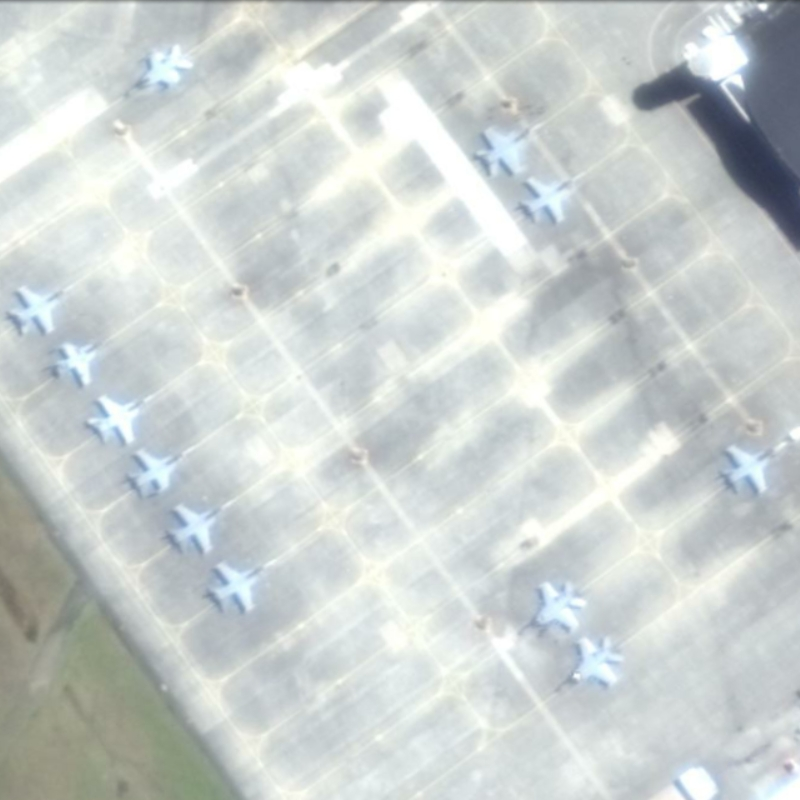A16: (120, 37, 197, 104), (471, 113, 548, 179), (717, 434, 793, 499), (163, 494, 240, 557), (204, 555, 282, 617), (513, 165, 589, 227), (553, 633, 625, 696), (518, 574, 589, 637), (3, 281, 78, 339), (84, 387, 157, 446), (125, 442, 197, 500), (49, 337, 113, 386)
